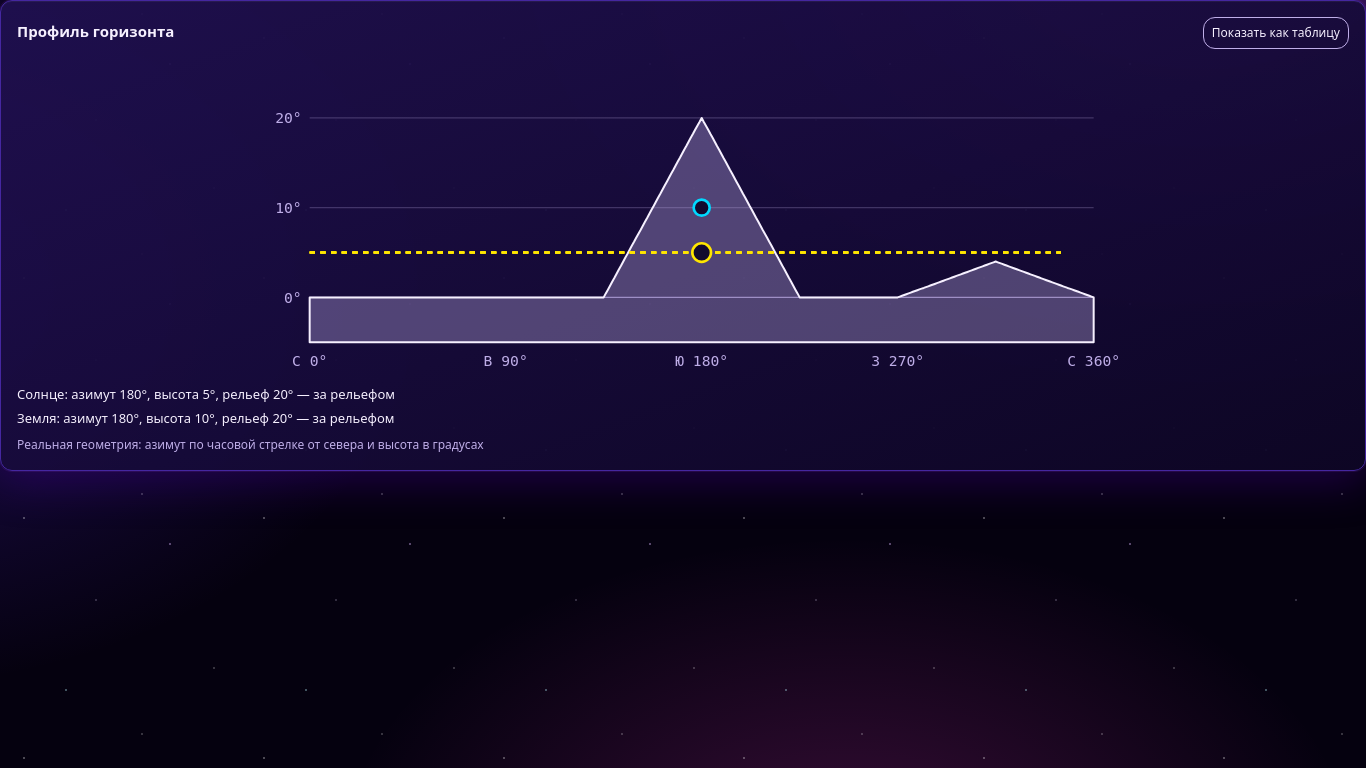
Scenario: HorizonProfile › shows the same numbers as a table
The width and height of the screenshot is (1366, 768).
Click the button "Показать как таблицу": (1276,33) [1203,17,1349,49]
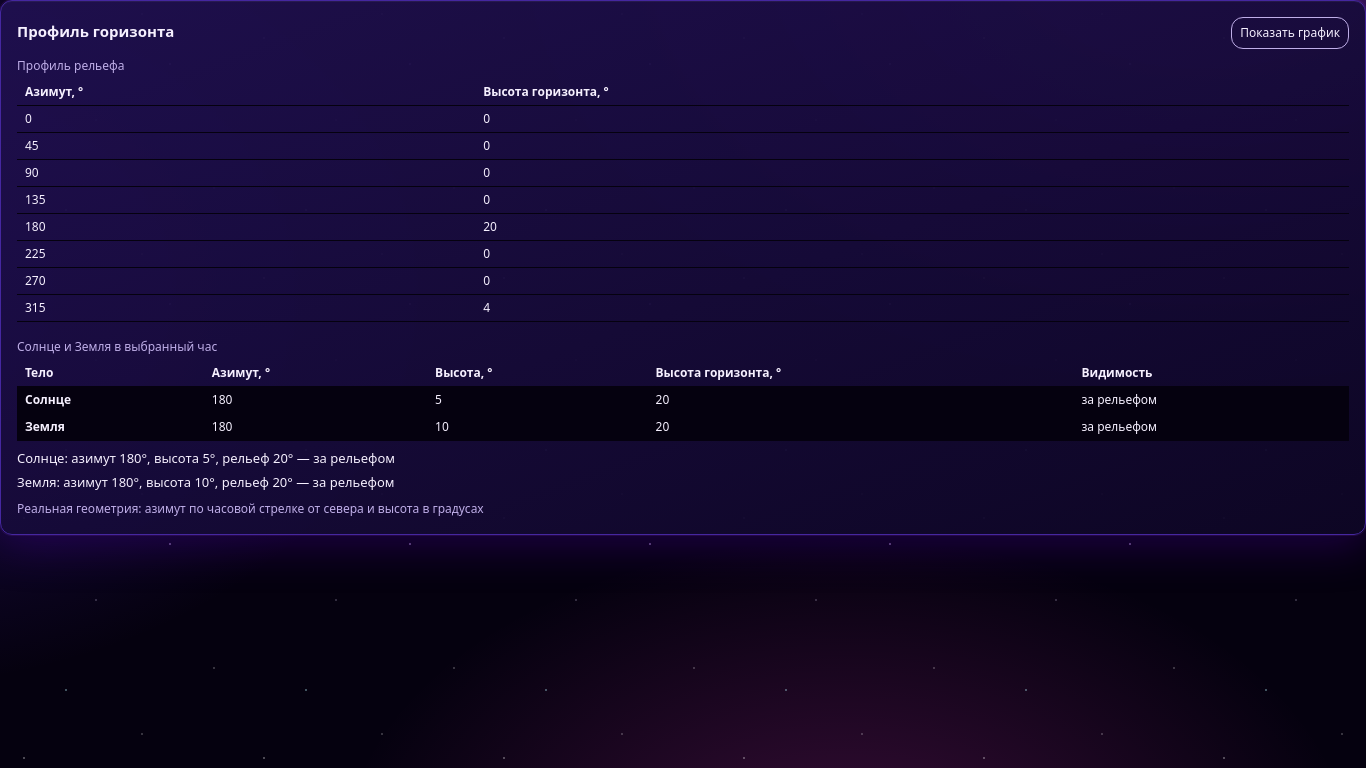
Check: the picture is gone
Check: the row "Солнце 180 5 20 за рельефом" is shown, box [17,386,1349,414]
Click the button "Показать график": (1290,33) [1231,17,1349,49]
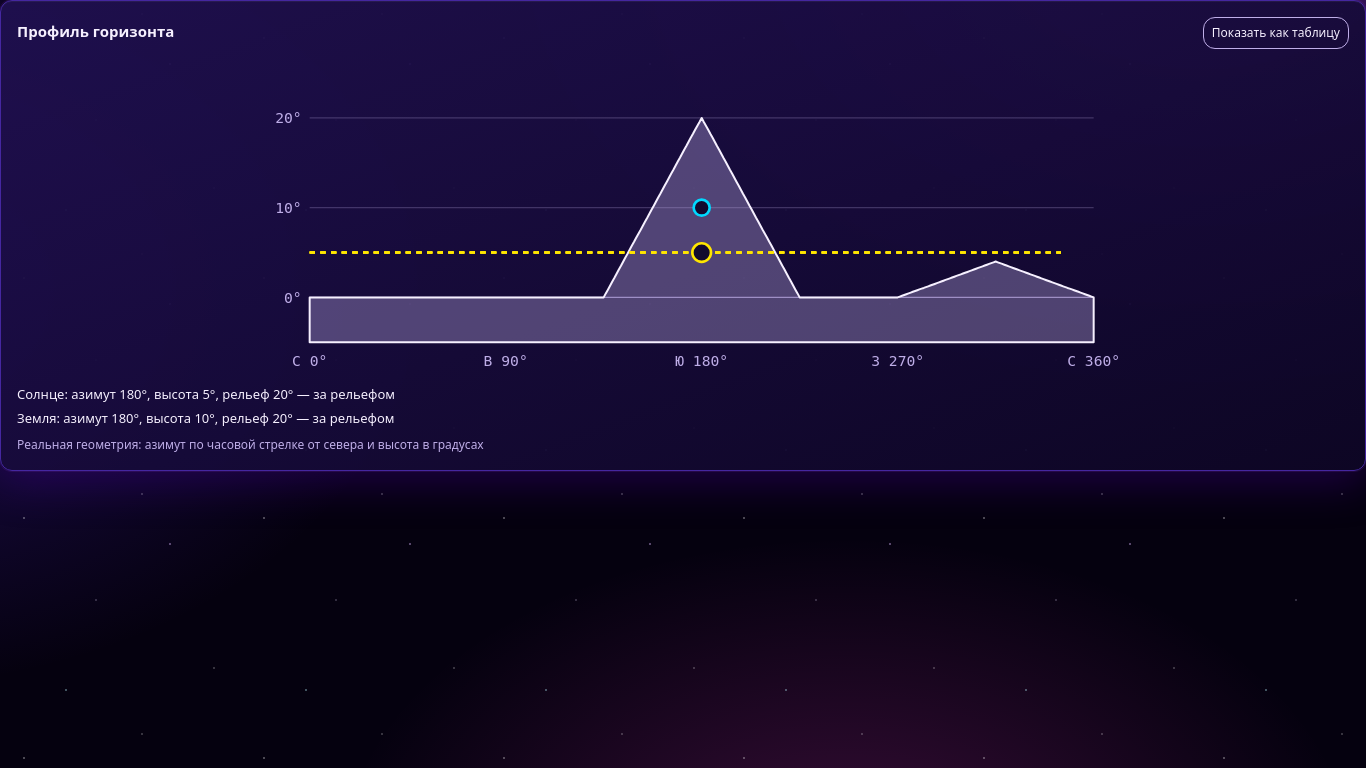
Check: the picture is shown, box [17,57,1349,377]
